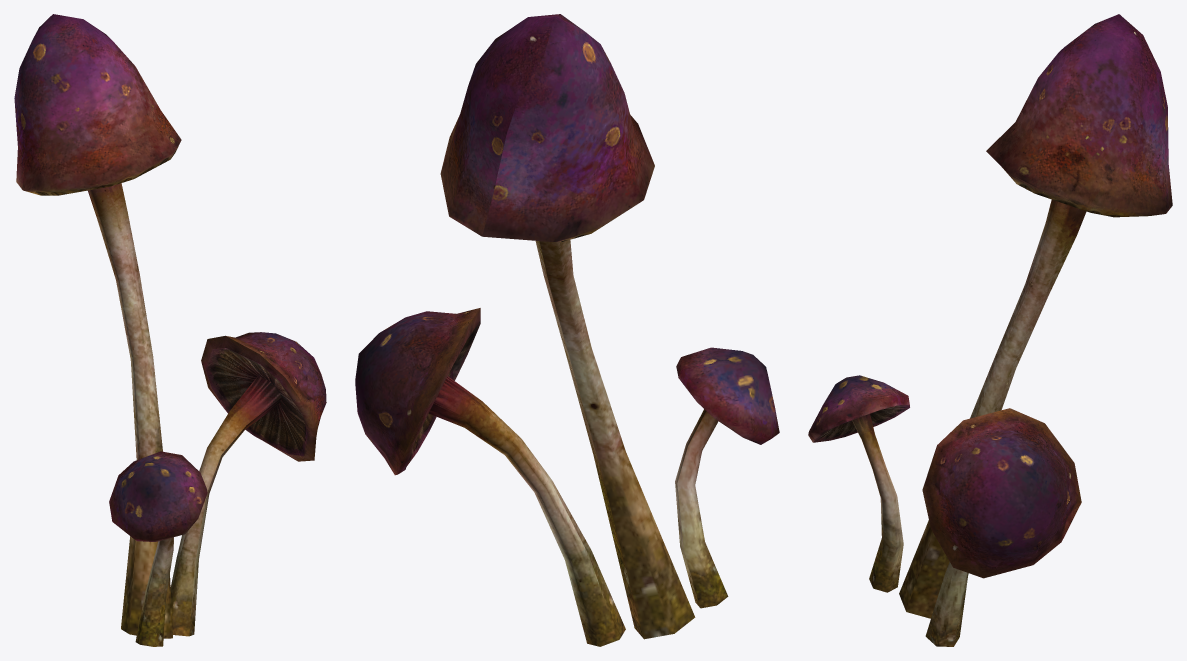
File: 1_ZhiWu_GuanMu02.FBX
The picture shows the model from 3 angles, left to right: view 1: azimuth 30°, elevation 25°; view 2: azimuth 150°, elevation 25°; view 3: azimuth 270°, elevation 25°; orthographic projection. The views are drawn at different scales.
Parts seen in each view (by area): view 1: DrawCall_0333; view 2: DrawCall_0333; view 3: DrawCall_0333.
Part boxes in pixels (bbox=[...]): DrawCall_0333: bbox=[14, 14, 326, 646]; DrawCall_0333: bbox=[355, 14, 779, 646]; DrawCall_0333: bbox=[808, 14, 1172, 646].
Bounding box in the file's own units: 0.0953 × 0.1966 × 0.1072.
